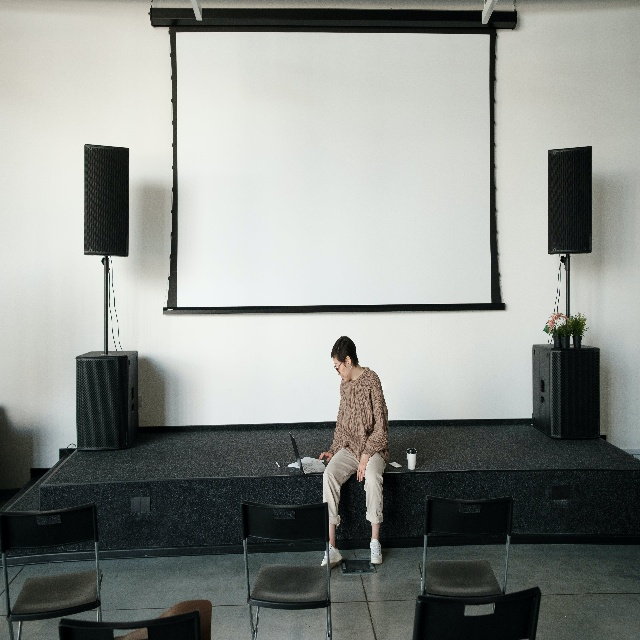Gafas: (334, 357, 347, 374)
Sin_guantes: (356, 453, 370, 482), (318, 450, 333, 464)
